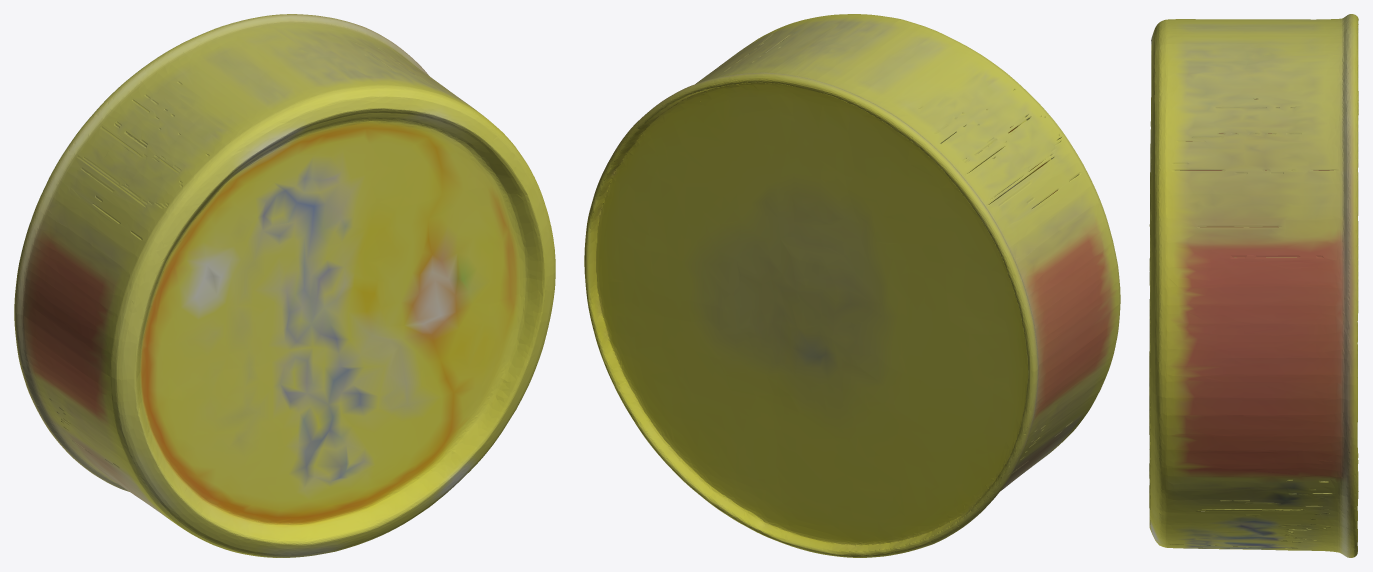
3 renders of one model, left to right at view 1: azimuth 30°, elevation 25°; view 2: azimuth 150°, elevation 25°; view 3: azimuth 270°, elevation 25°, orthographic. The views are drawn at different scales.
Parts seen in each view (by area): view 1: world; view 2: world; view 3: world.
Boxes of the visible parts, box(x1,y1,x2,y2) form: world: box(14, 14, 555, 557); world: box(584, 14, 1120, 557); world: box(1149, 14, 1358, 557).
Bounding box in the file's own units: 0.0863 × 0.086 × 0.0331.
